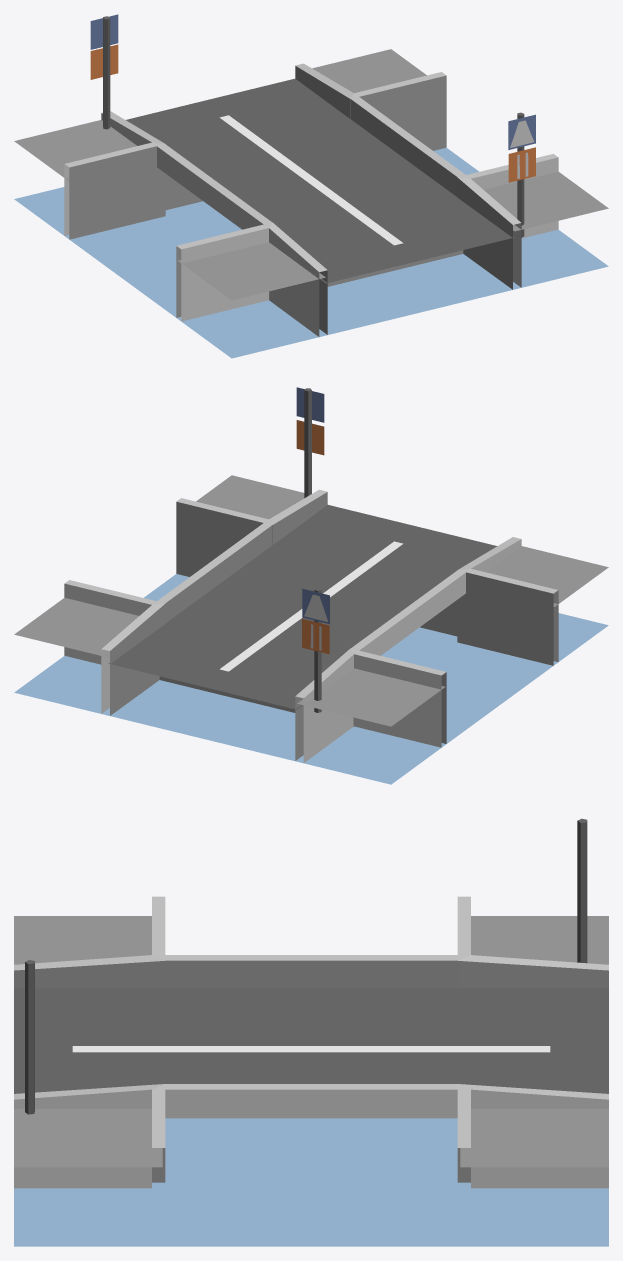
The model's file is road_tile_bridge_1x1_001.fbx.
3 renders of one model, top to bottom at view 1: azimuth 30°, elevation 25°; view 2: azimuth 150°, elevation 25°; view 3: azimuth 270°, elevation 25°, orthographic. The views are drawn at different scales.
Parts seen in each view (by area): view 1: road_tile_bridge_1x1_001; view 2: road_tile_bridge_1x1_001; view 3: road_tile_bridge_1x1_001.
Boxes of the visible parts, left/top/right/bottom form: road_tile_bridge_1x1_001: left=14, top=14, right=608, bottom=358; road_tile_bridge_1x1_001: left=14, top=387, right=608, bottom=784; road_tile_bridge_1x1_001: left=14, top=818, right=608, bottom=1246.
Bounding box in the file's own units: 800 × 341 × 800.
